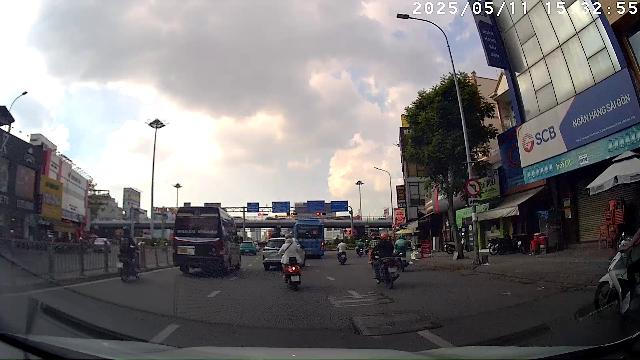123a-cam-re-trai: (465, 178, 481, 197)
